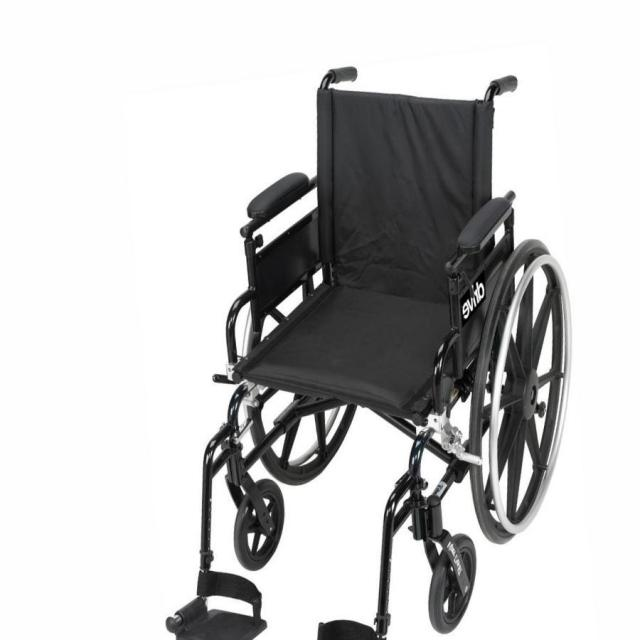wheelchair: (160, 42, 577, 640)
